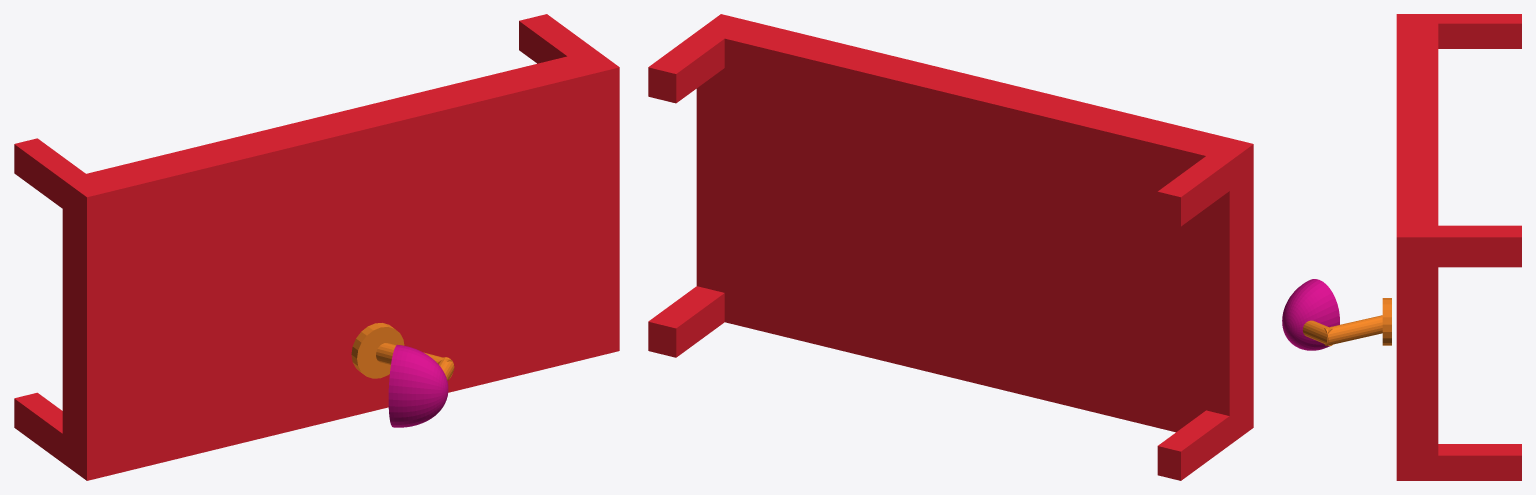
The model's file is tinker.obj.
The picture shows the model from 3 angles, left to right: view 1: azimuth 30°, elevation 25°; view 2: azimuth 150°, elevation 25°; view 3: azimuth 270°, elevation 25°; orthographic projection. The views are drawn at different scales.
Visible parts, largest first — view 1: group_0_15277357, group_0_14093196, group_0_16089887; view 2: group_0_15277357; view 3: group_0_15277357, group_0_14093196, group_0_16089887.
Part boxes in pixels (x1,y1,x2,y2): group_0_15277357: (14, 14, 619, 480); group_0_14093196: (388, 344, 448, 427); group_0_16089887: (351, 323, 454, 380); group_0_15277357: (648, 14, 1253, 480); group_0_15277357: (1396, 14, 1521, 480); group_0_14093196: (1282, 279, 1339, 350); group_0_16089887: (1303, 298, 1391, 346).
Size of the model in its own units: 114 by 58 by 51.71.
